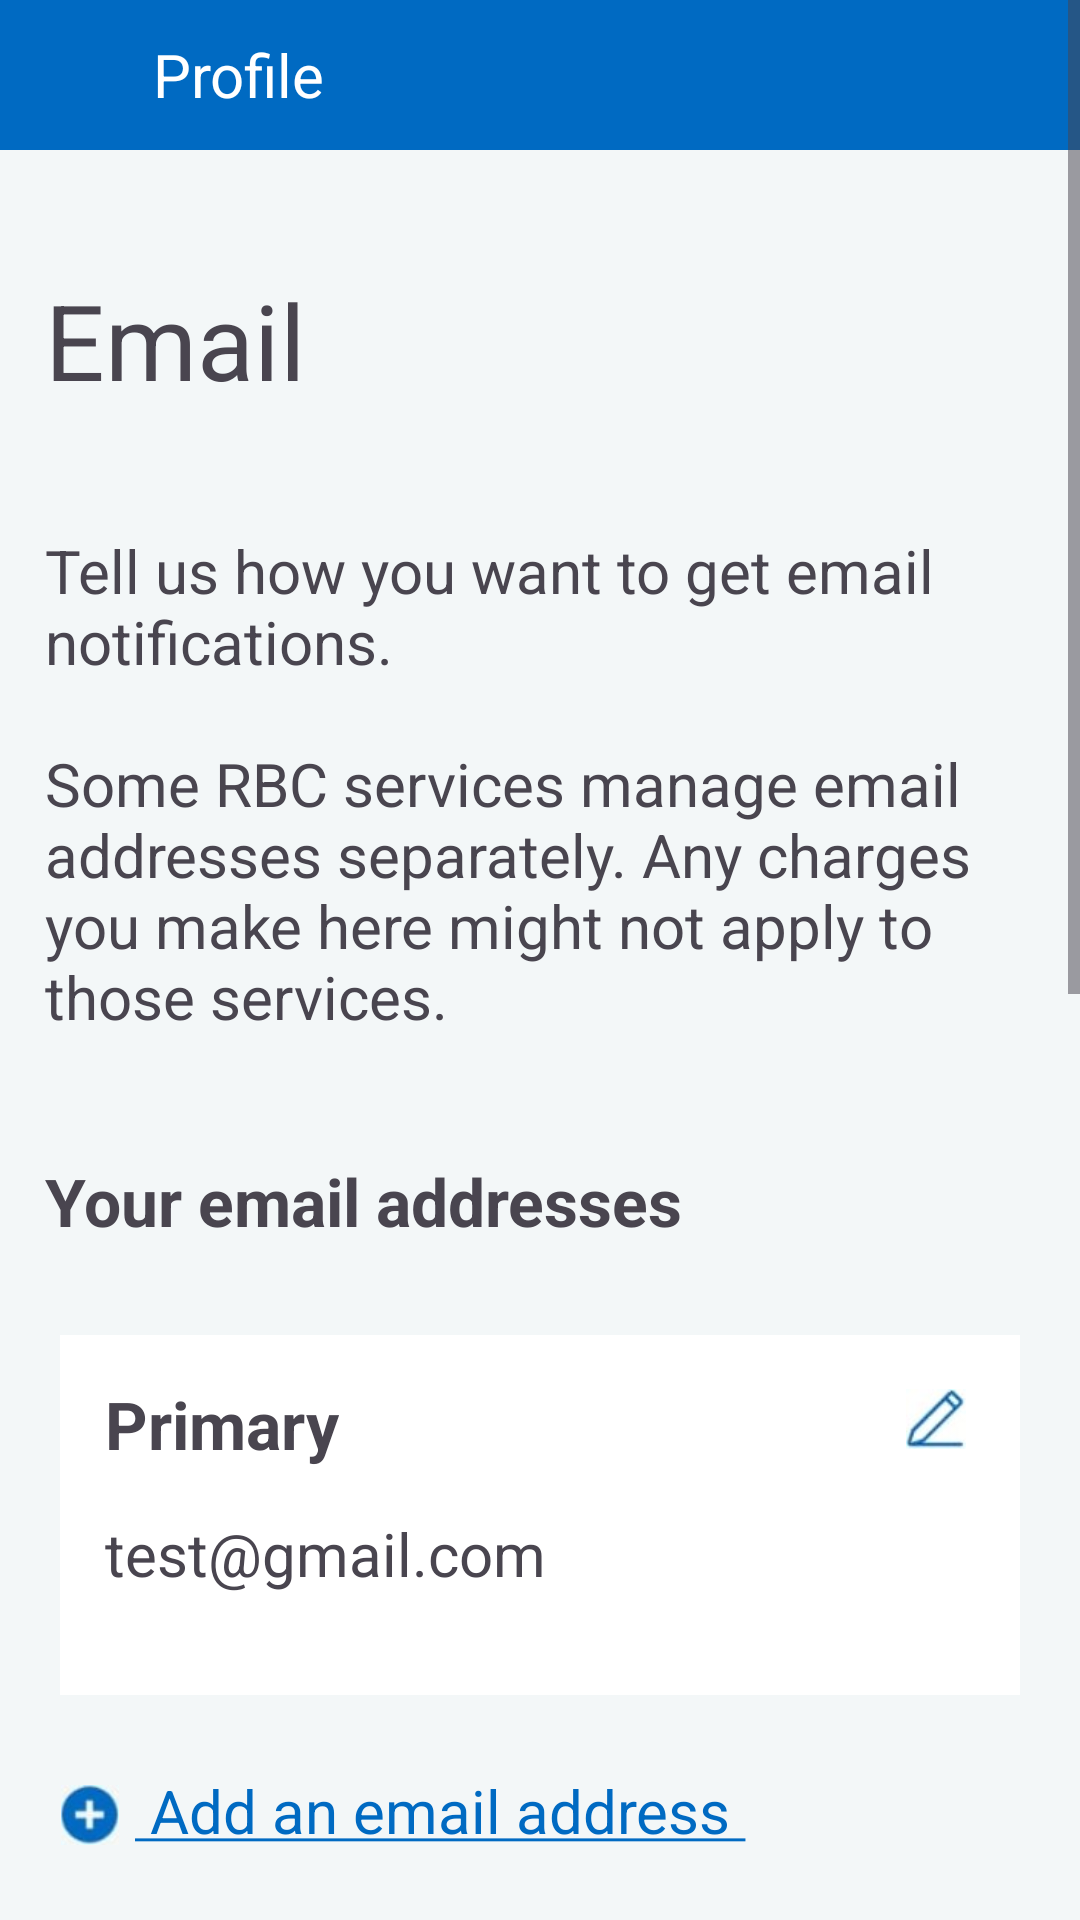

Screen size 1080*1920. Icon name, then its box in pixels as (x1, y1, x2, y2):
edit pencil: (906, 1389, 964, 1449)
plus: (61, 1785, 119, 1845)
